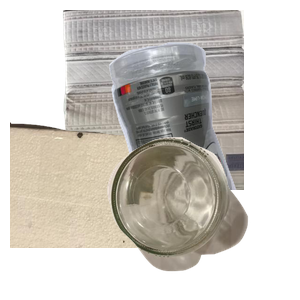glass: (105, 135, 300, 300)
paper: (60, 10, 300, 190)
plastic: (106, 40, 300, 220)
trash: (10, 120, 207, 300)
